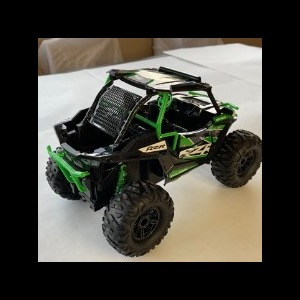polaris: (45, 67, 262, 259)
